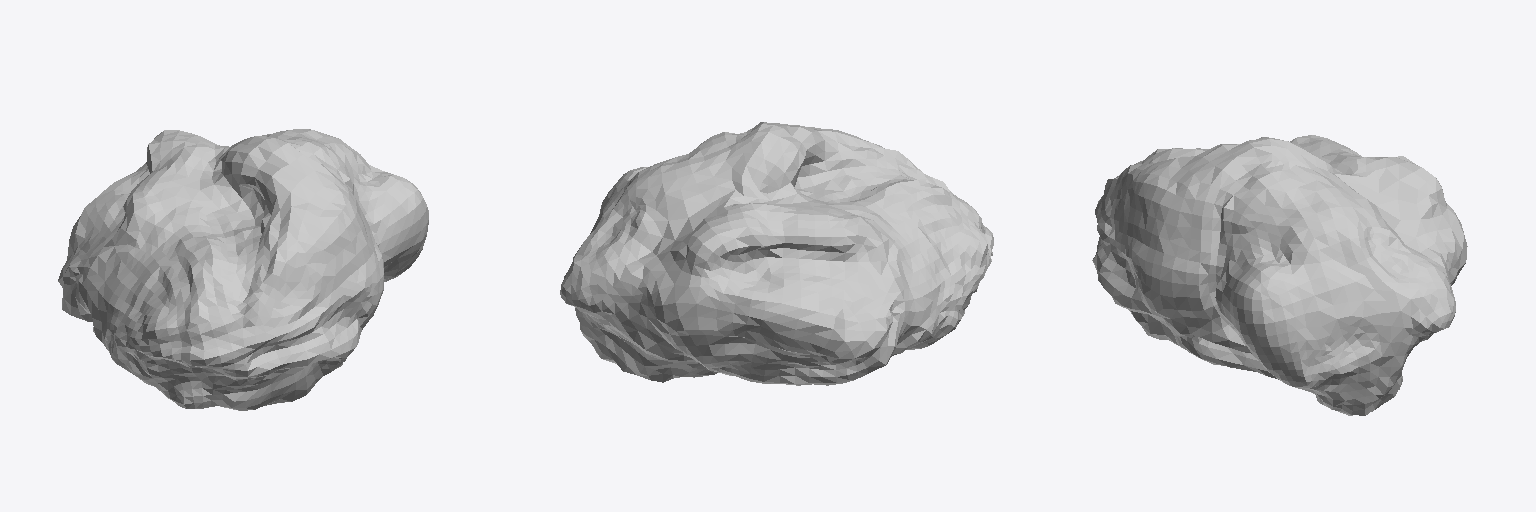
The model's file is rock2.obj.
3 views of the same model, side by side, from view 1: azimuth 30°, elevation 25°; view 2: azimuth 150°, elevation 25°; view 3: azimuth 270°, elevation 25° (orthographic).
Parts seen in each view (by area): view 1: rock2:Rock_01 rock2:group1 rock2:polySurface1; view 2: rock2:Rock_01 rock2:group1 rock2:polySurface1; view 3: rock2:Rock_01 rock2:group1 rock2:polySurface1.
Part boxes in pixels (x1,y1,x2,y2): rock2:Rock_01 rock2:group1 rock2:polySurface1: (58, 129, 428, 410); rock2:Rock_01 rock2:group1 rock2:polySurface1: (560, 122, 993, 385); rock2:Rock_01 rock2:group1 rock2:polySurface1: (1092, 135, 1467, 415).
Size of the model in its own units: 0.5786 by 0.3952 by 0.5633.